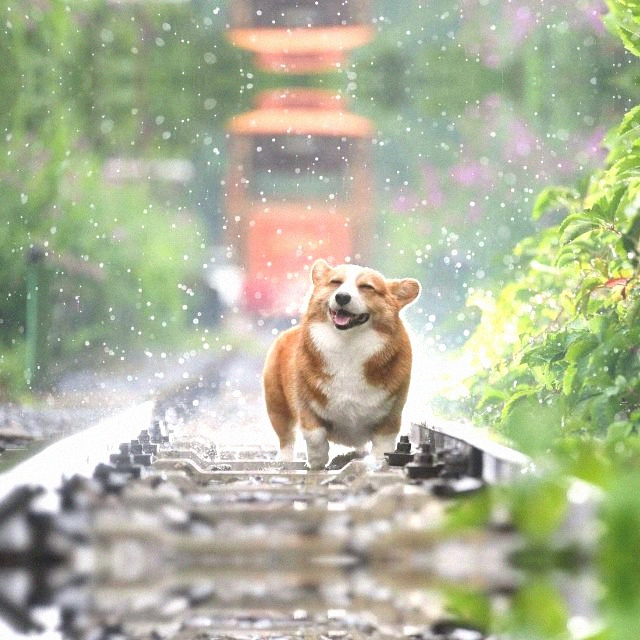dog: (257, 253, 433, 469)
